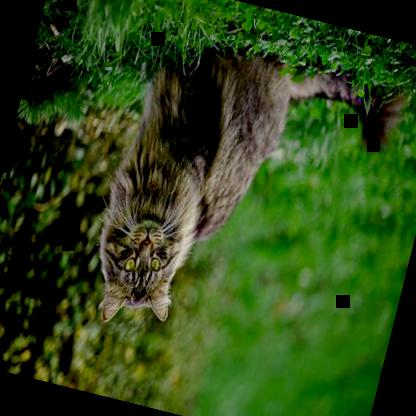cat: (80, 26, 406, 380)
